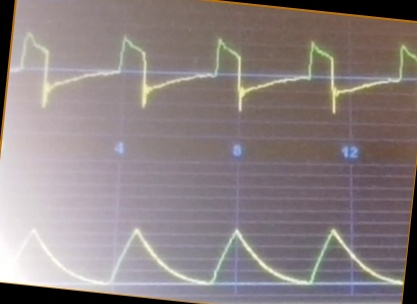Normal Flow: (14, 28, 417, 116)
Normal Volume: (7, 206, 403, 288)
